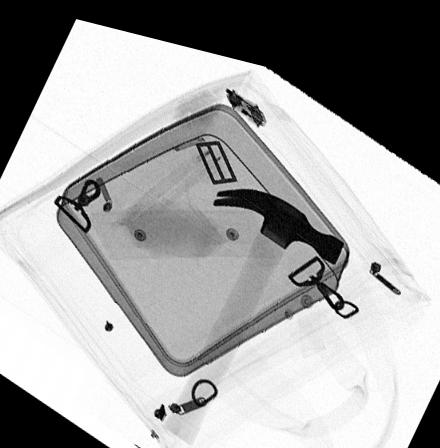Hammer: (163, 175, 346, 436)
